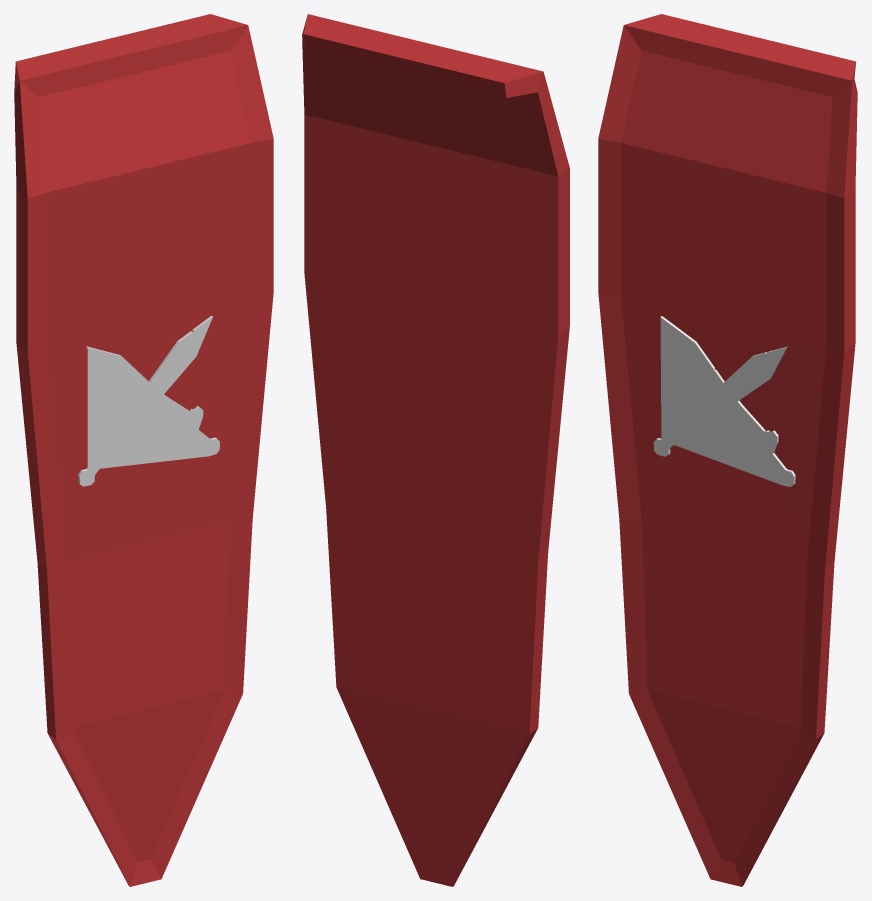
Rendered from BannerSwords.fbx.
3 renders of one model, left to right at view 1: azimuth 30°, elevation 25°; view 2: azimuth 150°, elevation 25°; view 3: azimuth 330°, elevation 25°, orthographic. The views are drawn at different scales.
Visible parts, largest first — view 1: BannerSwords; view 2: BannerSwords; view 3: BannerSwords.
Boxes of the visible parts, x1,y1,x2,y2 form: BannerSwords: (14,14,273,886); BannerSwords: (302,14,569,886); BannerSwords: (598,14,857,886).
Size of the model in its own units: 85.66 by 273 by 22.68.
1 material, 1 textured.
